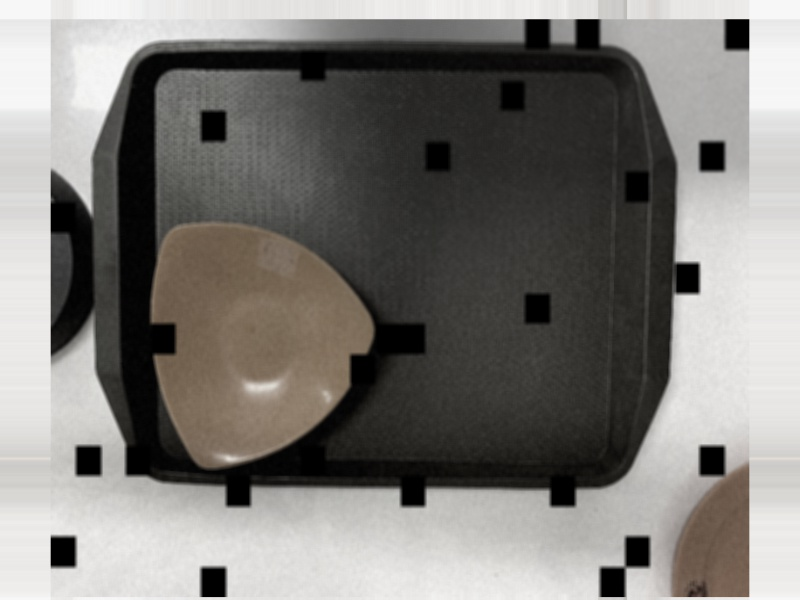dish11: (147, 218, 383, 475)
